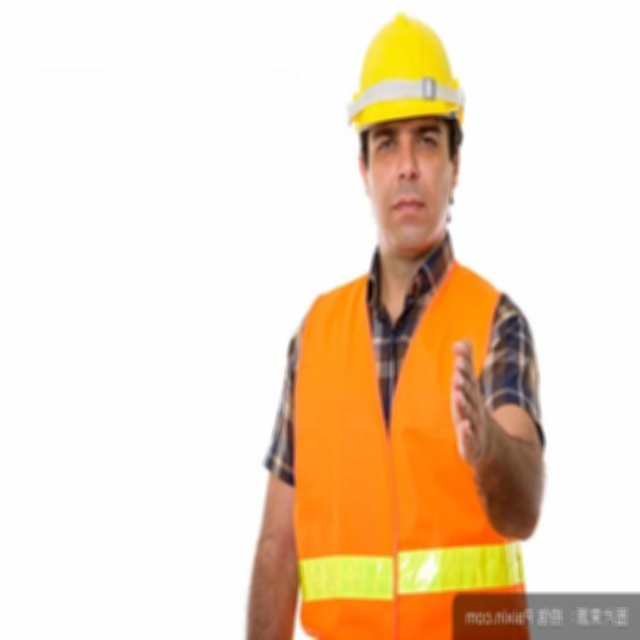Con_Casco: (350, 15, 465, 258)
Con_Chaleco: (296, 274, 520, 634)
